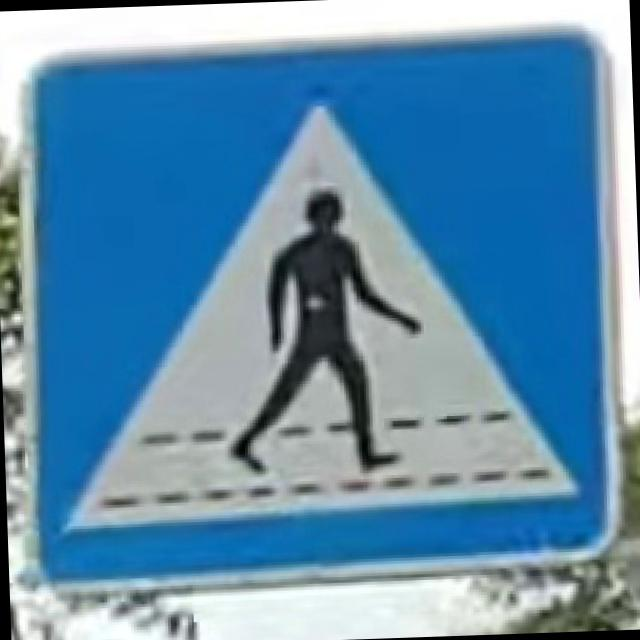zebracrossing_sign: (7, 21, 629, 596)
